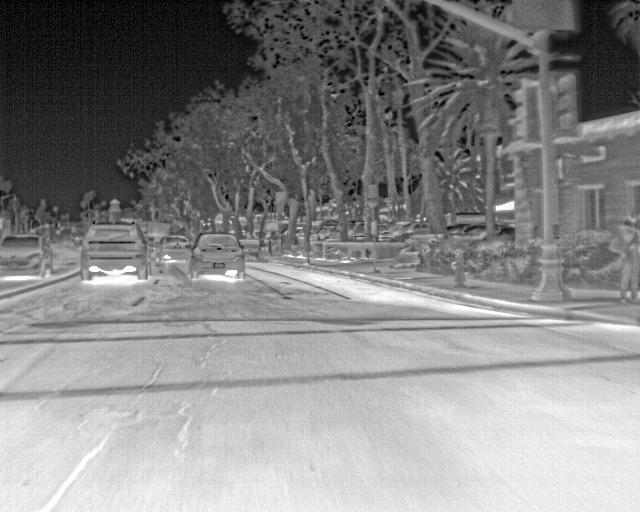bicycle: (82, 221, 150, 279), (190, 233, 245, 280), (0, 233, 55, 277), (156, 232, 194, 263)
empty: (606, 216, 639, 306)
